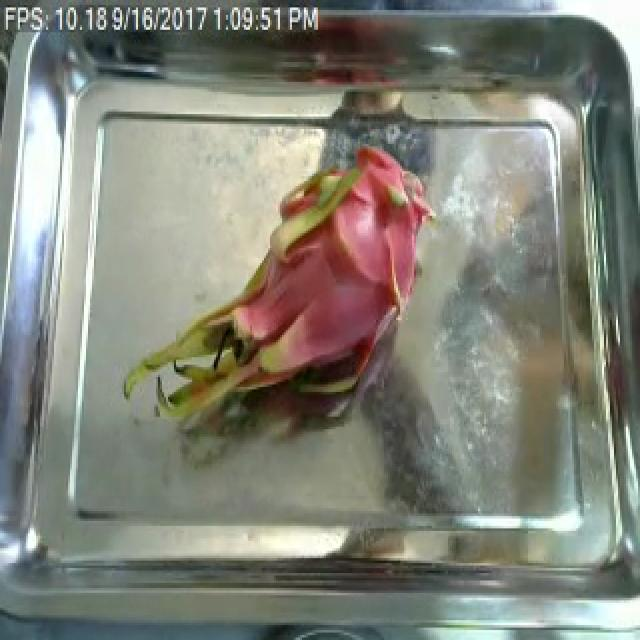fruit: (108, 119, 426, 464)
